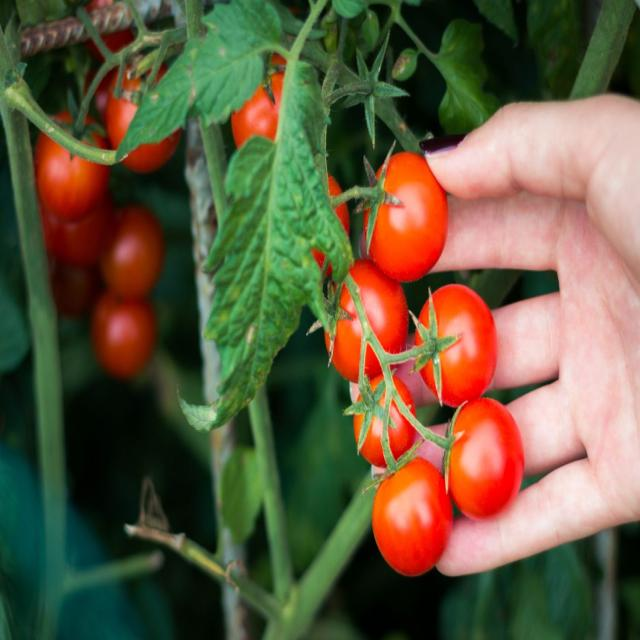overripe: (358, 144, 457, 277), (446, 391, 535, 528), (366, 452, 456, 586), (412, 273, 497, 409), (314, 260, 412, 376), (36, 102, 110, 222), (108, 51, 182, 169), (344, 365, 421, 470), (90, 288, 160, 384), (99, 207, 168, 299)
